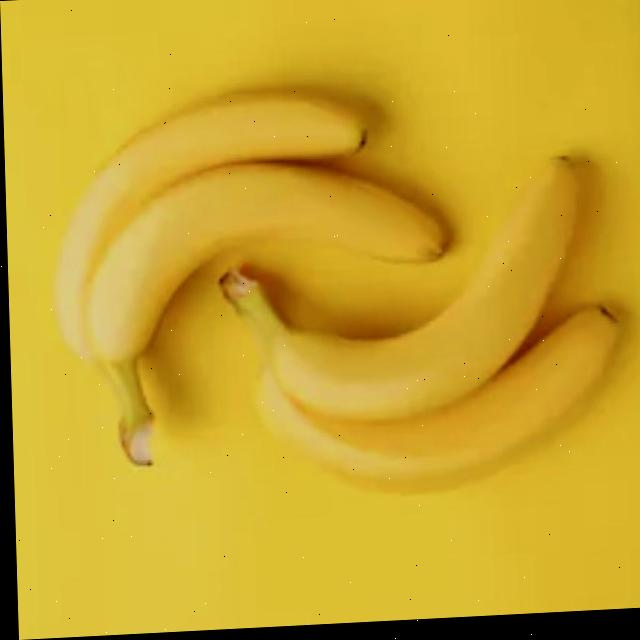banana: (180, 190, 640, 510), (11, 50, 464, 366)
